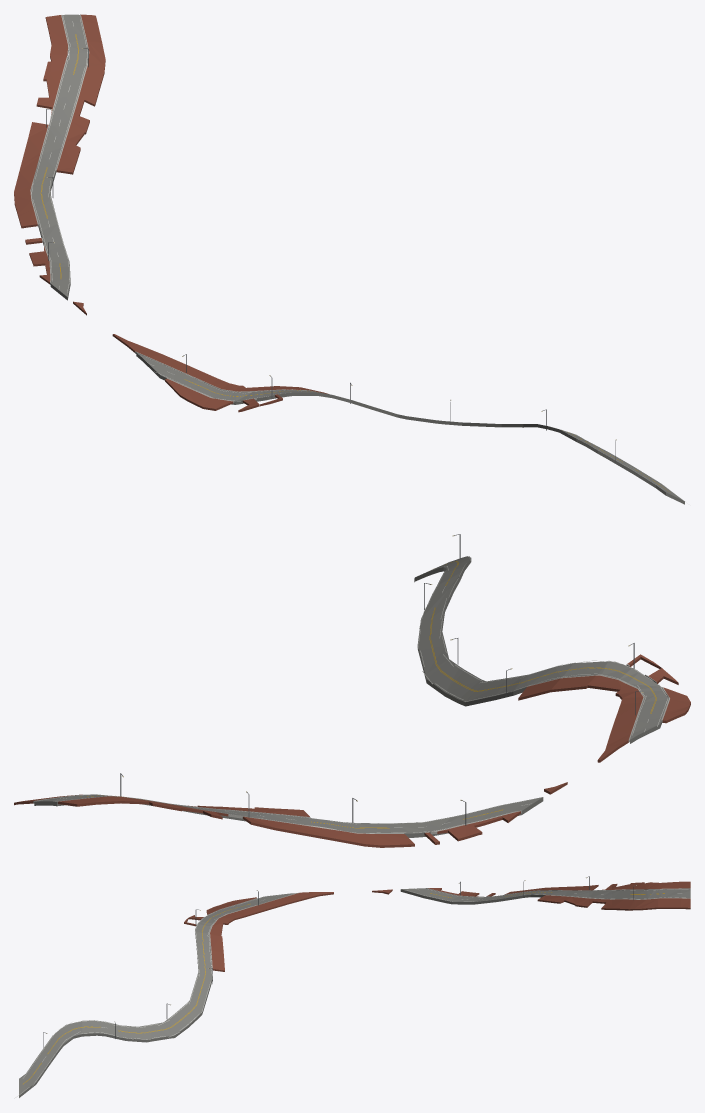
3 renders of one model, top to bottom at view 1: azimuth 30°, elevation 25°; view 2: azimuth 150°, elevation 25°; view 3: azimuth 270°, elevation 25°, orthographic. The views are drawn at different scales.
Size of the model in its own units: 135 by 71.62 by 294.
